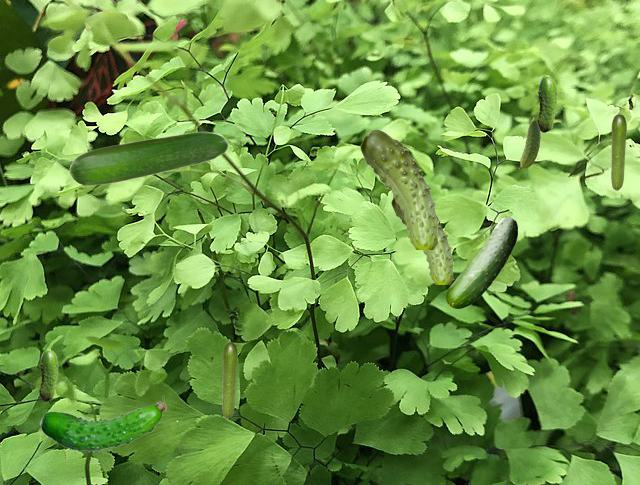cucumber: (360, 129, 438, 248), (69, 131, 227, 185), (39, 395, 165, 451), (446, 217, 516, 307), (391, 198, 453, 283), (517, 117, 539, 168), (537, 75, 556, 131), (222, 342, 236, 417), (611, 114, 625, 189), (39, 349, 57, 400)
